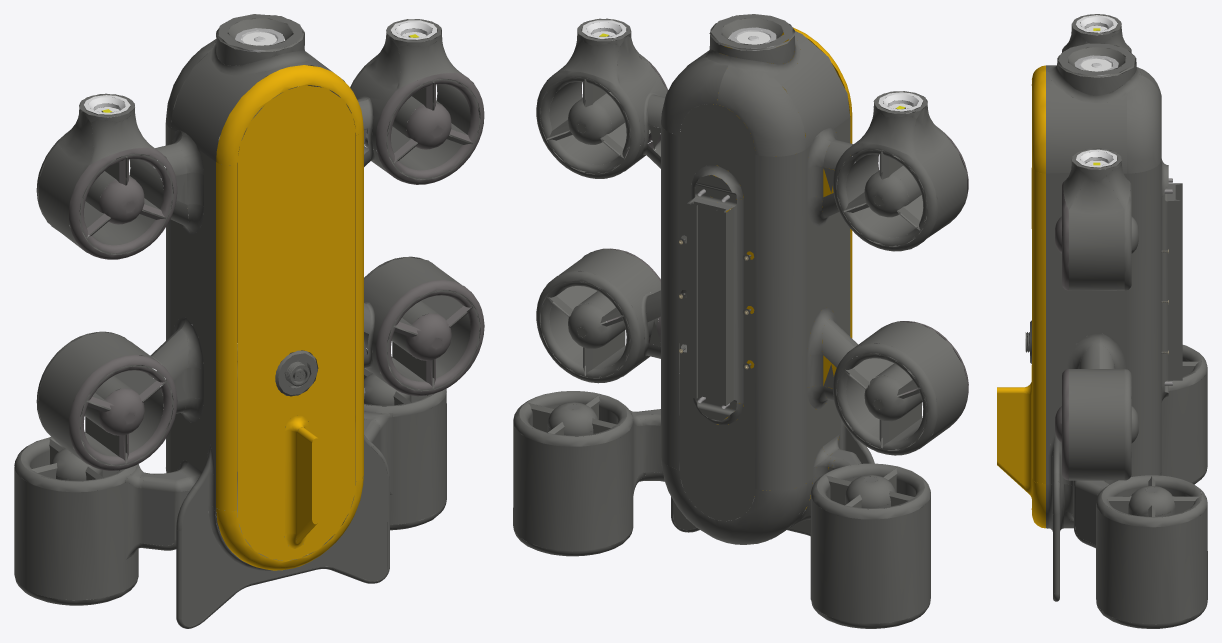
Rendered from titan_lowres.fbx.
3 renders of one model, left to right at view 1: azimuth 30°, elevation 25°; view 2: azimuth 150°, elevation 25°; view 3: azimuth 270°, elevation 25°, orthographic. The views are drawn at different scales.
Parts seen in each view (by area): view 1: mesh346, mesh446, mesh331, mesh518, mesh82, mesh445, mesh181, mesh302, mesh179, mesh178, mesh80, mesh83 (+45 smaller); view 2: mesh87, mesh589, mesh445, mesh446, mesh518, mesh89, mesh301, mesh181, mesh302, mesh652, mesh179, mesh91 (+44 smaller); view 3: mesh445, mesh89, mesh450, mesh179, mesh86, mesh80, mesh380, mesh446, mesh90, mesh643, mesh345, mesh590 (+28 smaller).
Part boxes in pixels (x1,y1,x2,y2): mesh346: (237, 85, 355, 560); mesh446: (14, 467, 138, 600); mesh331: (182, 440, 387, 626); mesh518: (171, 129, 215, 507); mesh82: (216, 162, 237, 511); mesh445: (390, 393, 446, 524); mesh181: (37, 332, 173, 465); mesh302: (171, 50, 288, 161); mesh179: (364, 257, 480, 391); mesh178: (38, 143, 173, 254); mesh80: (356, 130, 363, 481); mesh83: (216, 67, 296, 165); mesh87: (755, 149, 806, 490); mesh589: (679, 103, 755, 521); mesh445: (513, 412, 633, 551); mesh446: (810, 476, 930, 623); mesh518: (806, 117, 850, 482); mesh89: (661, 124, 679, 470); mesh301: (717, 65, 806, 156); mesh181: (836, 321, 967, 450); mesh302: (768, 31, 849, 148); mesh652: (694, 201, 725, 399); mesh179: (540, 249, 660, 378); mesh91: (717, 483, 806, 544); mesh445: (1096, 487, 1207, 623); mesh89: (1127, 161, 1161, 476); mesh450: (1046, 173, 1126, 484); mesh179: (1069, 368, 1124, 480); mesh86: (1046, 72, 1126, 173); mesh80: (1031, 168, 1045, 484); mesh380: (1069, 210, 1124, 290); mesh446: (1161, 370, 1207, 482); mesh90: (1127, 75, 1161, 173); mesh643: (1168, 201, 1182, 380); mesh345: (997, 393, 1023, 484); mesh590: (1161, 195, 1168, 386).
Size of the model in its own units: 30.93 by 39.58 by 15.11.
